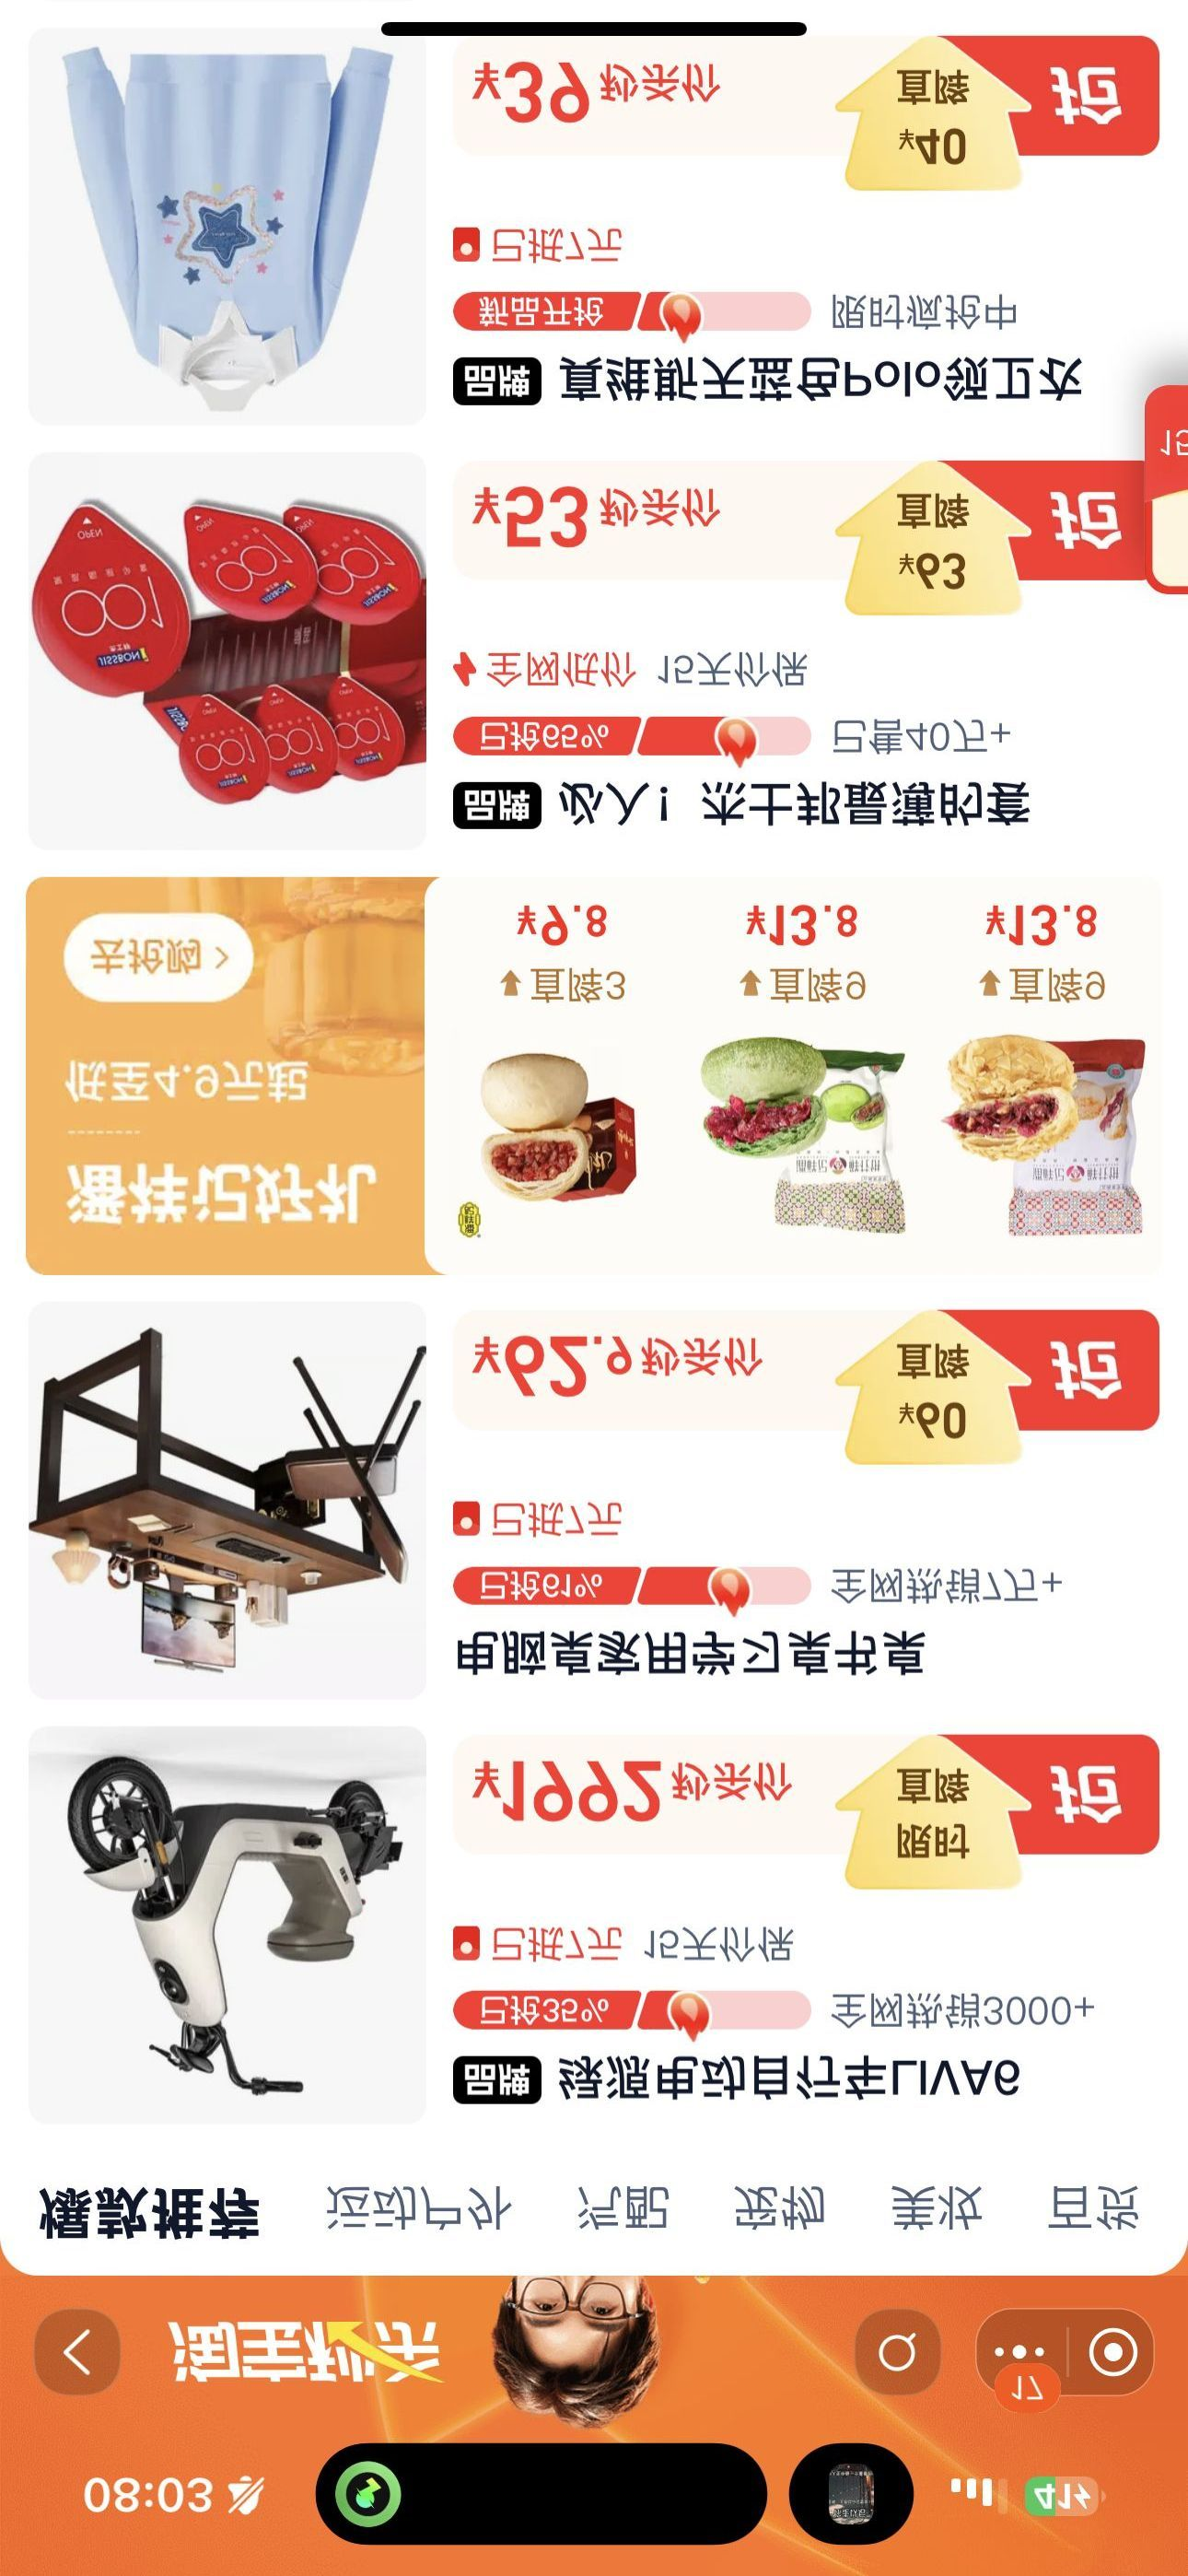item: (31, 1715, 1183, 2164), (16, 1281, 1181, 1717), (20, 427, 1186, 851), (12, 866, 1181, 1268), (13, 21, 1181, 407)
op_bar: (2, 2290, 1183, 2435)
